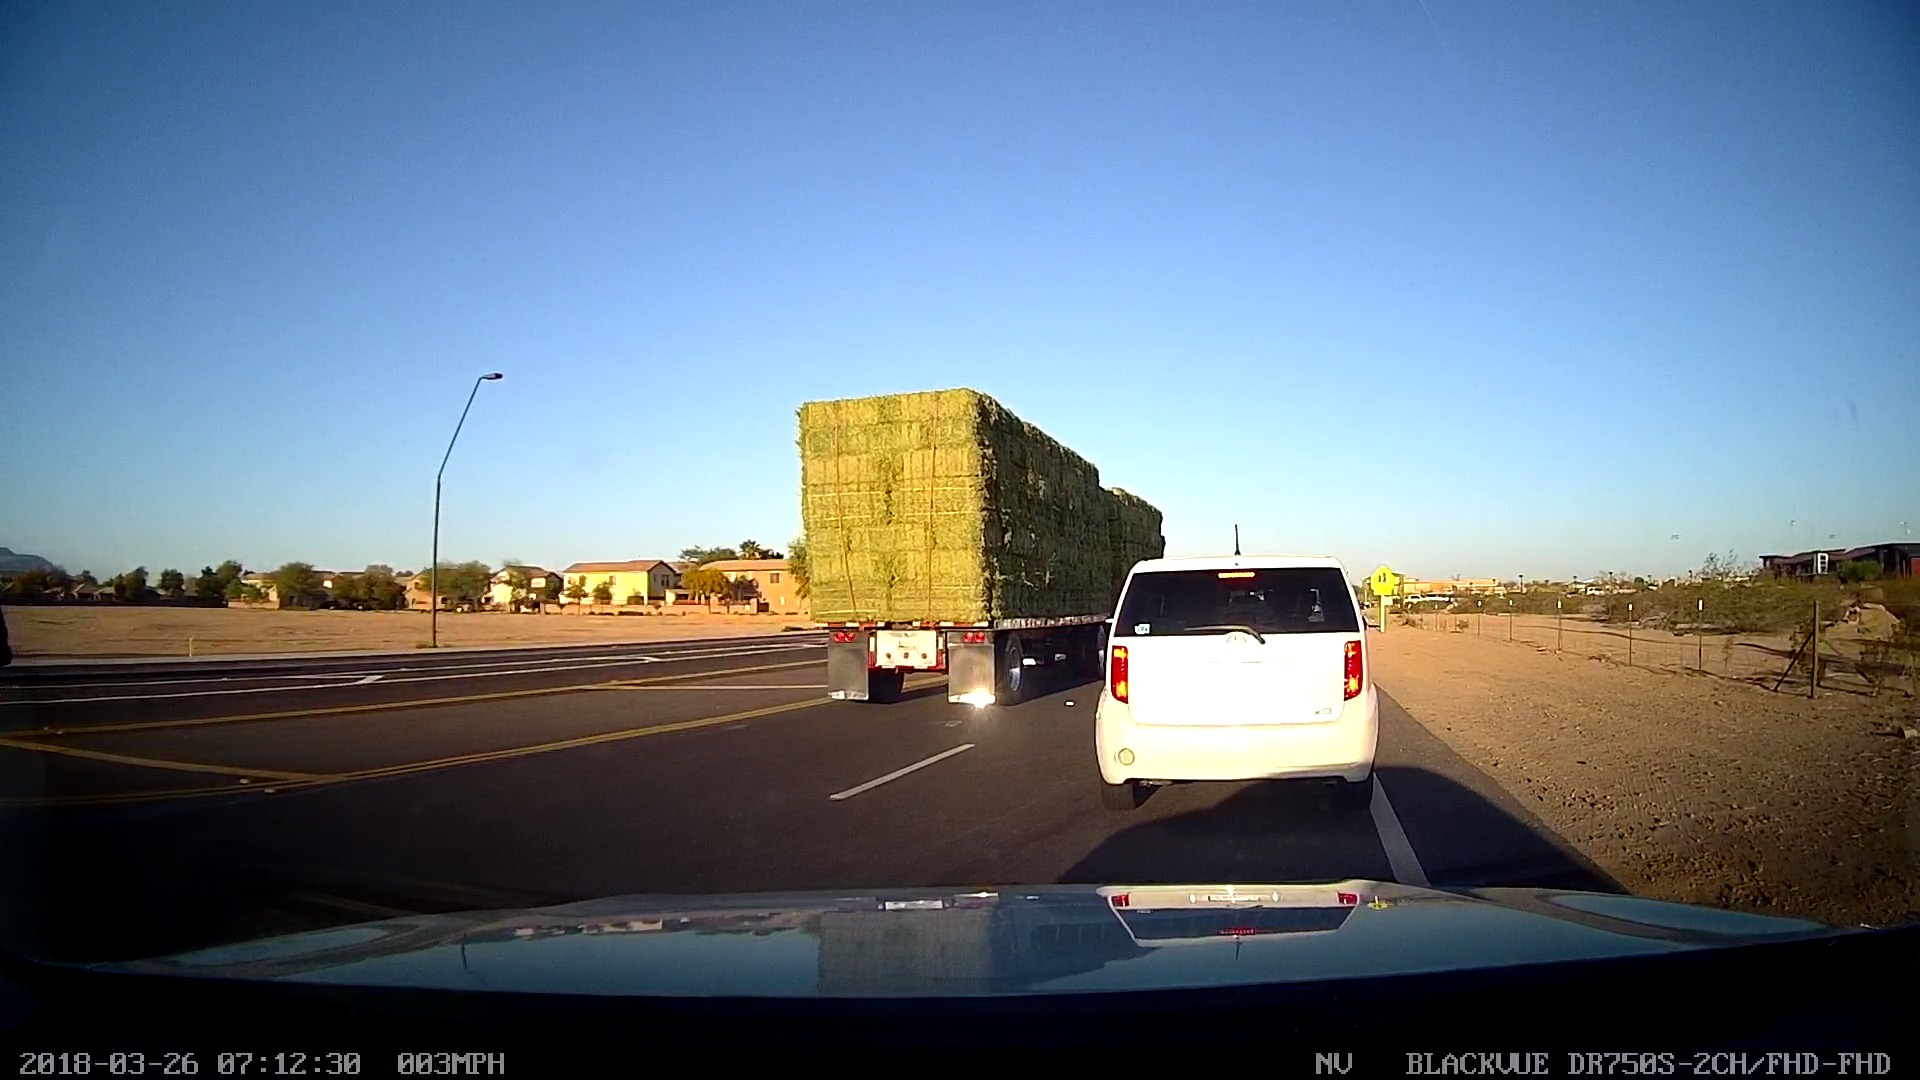vehicle: (793, 381, 1163, 700), (1095, 553, 1382, 812)
